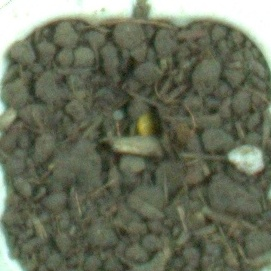chilli seed: (130, 108, 163, 142)
